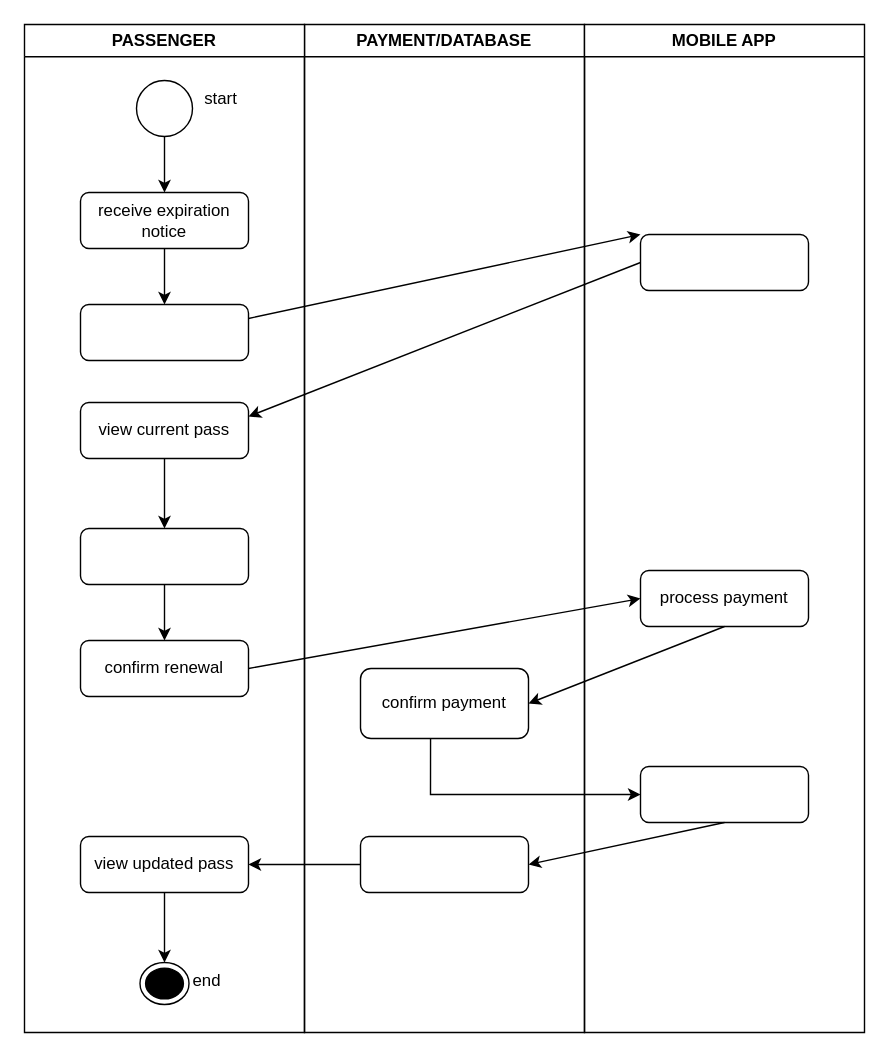
Image size: 889x1057. Some labels were removed from this diagram. The centre of each missing label's shape, as x and y in pixels:
get pass details: [723,261]
open renewal section: [163,331]
select renewal option: [163,555]
update pass: [723,793]
update validity: [443,863]
